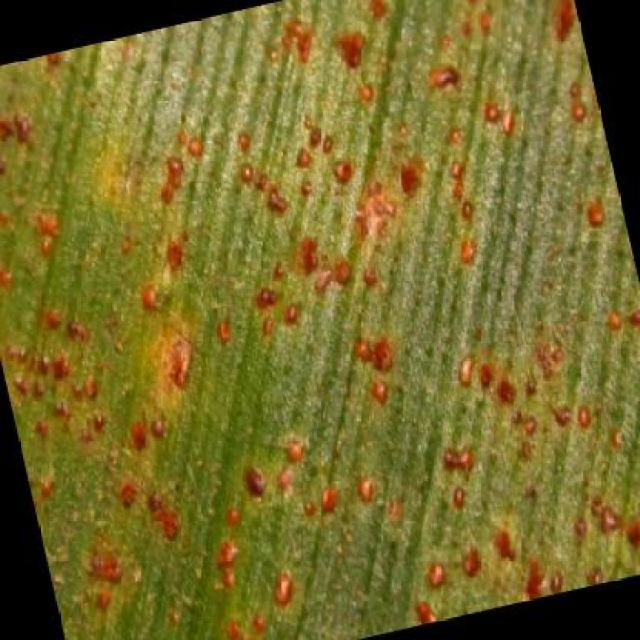Corn_Rust: (65, 62, 589, 586)
